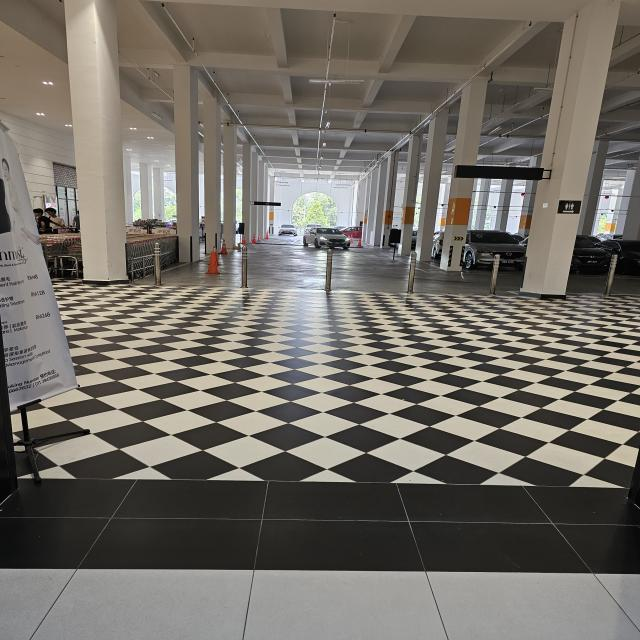footpath: (91, 294, 640, 639)
obstacle: (0, 112, 78, 504), (486, 250, 504, 290), (321, 245, 335, 293), (404, 252, 418, 290), (239, 246, 251, 286)
